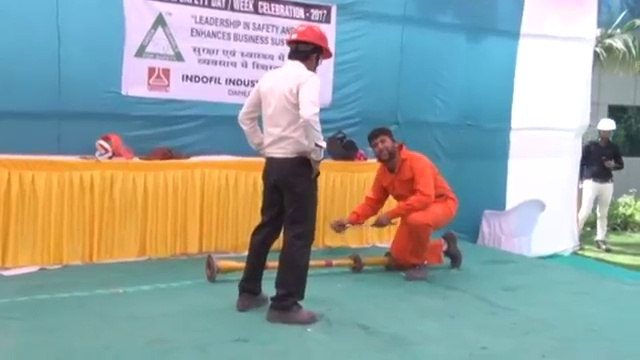helmet: (284, 23, 333, 58), (596, 116, 618, 133)
helmet_off: (369, 126, 396, 164)
helmet_on: (283, 20, 333, 76), (595, 115, 619, 144)
person: (236, 22, 334, 328), (330, 125, 464, 279), (576, 115, 624, 252)
